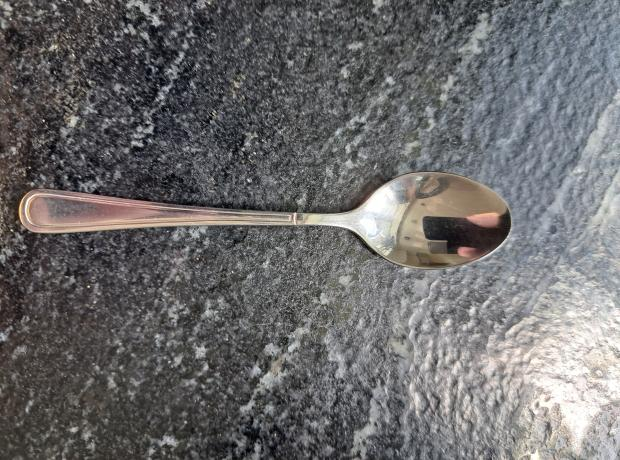metal: (15, 173, 511, 268)
